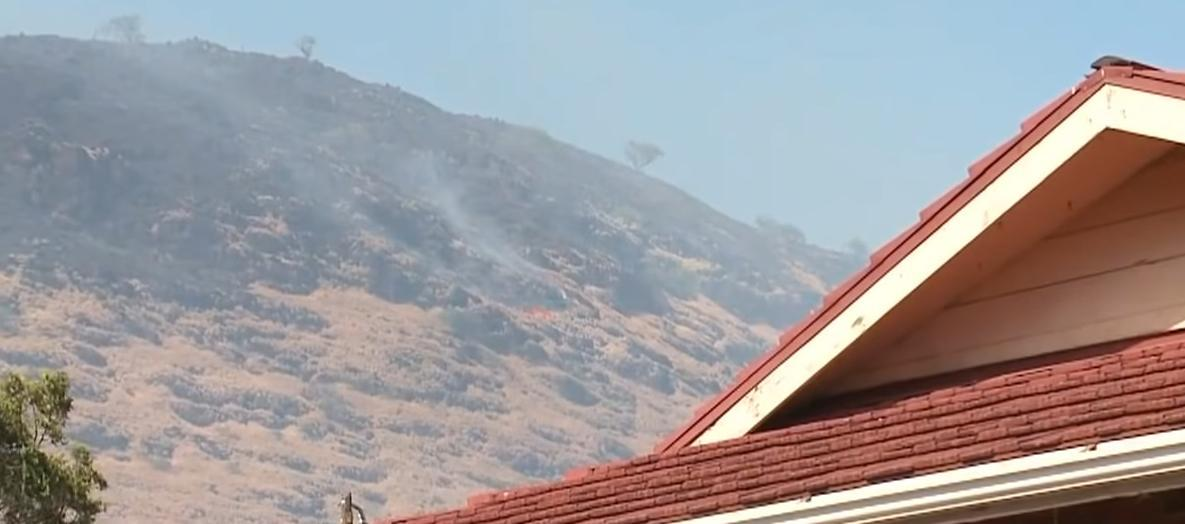Smoke: (389, 137, 537, 266)
